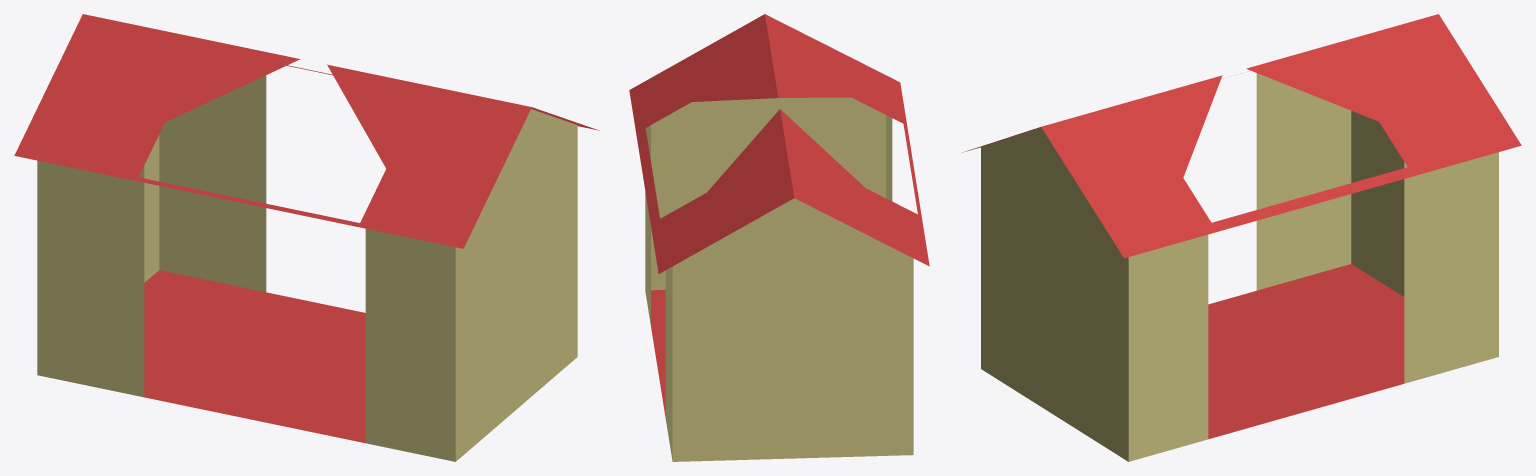
The picture shows the model from 3 angles, left to right: view 1: azimuth 30°, elevation 25°; view 2: azimuth 150°, elevation 25°; view 3: azimuth 270°, elevation 25°; orthographic projection. The views are drawn at different scales.
Bounding box in the file's own units: 15.69 × 17.2 × 9.85.
